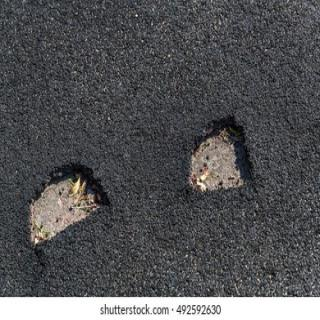pothole: (29, 164, 110, 248), (188, 116, 254, 192)
